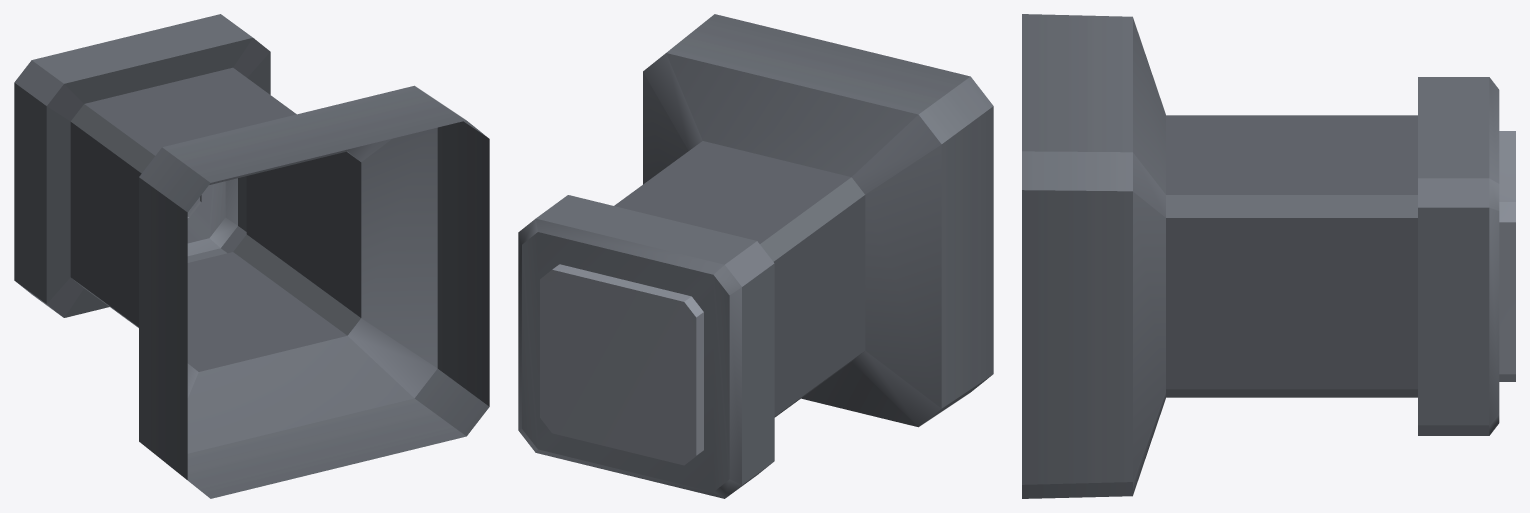
Rendered from Edge Pillar Corner 01.FBX.
3 views of the same model, side by side, from view 1: azimuth 30°, elevation 25°; view 2: azimuth 150°, elevation 25°; view 3: azimuth 270°, elevation 25° (orthographic). The views are drawn at different scales.
Parts seen in each view (by area): view 1: Edge Pillar Corner 01; view 2: Edge Pillar Corner 01; view 3: Edge Pillar Corner 01.
Boxes of the visible parts, x1,y1,x2,y2 form: Edge Pillar Corner 01: (14, 14, 489, 498); Edge Pillar Corner 01: (518, 14, 993, 498); Edge Pillar Corner 01: (1022, 14, 1515, 498).
Bounding box in the file's own units: 60.45 × 60.47 × 77.88.
